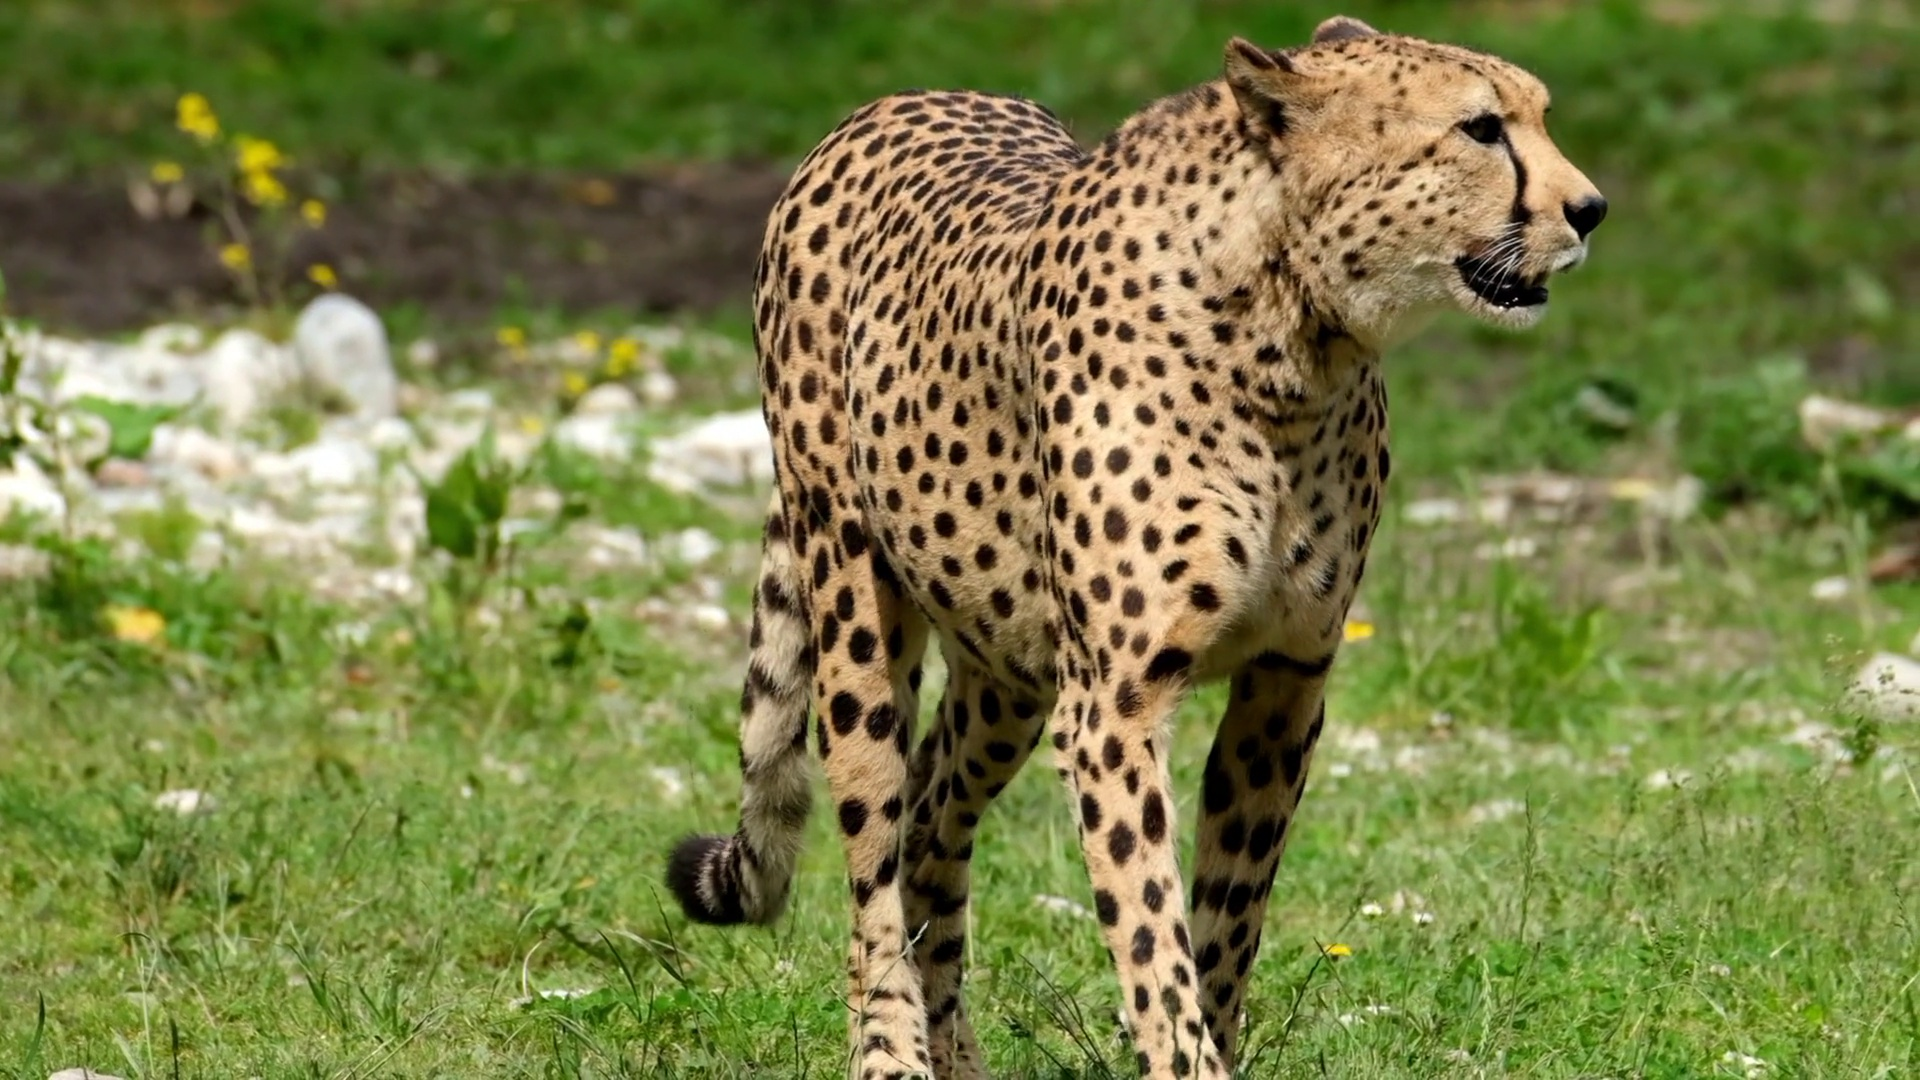Cheetah: (662, 12, 1614, 1080)
